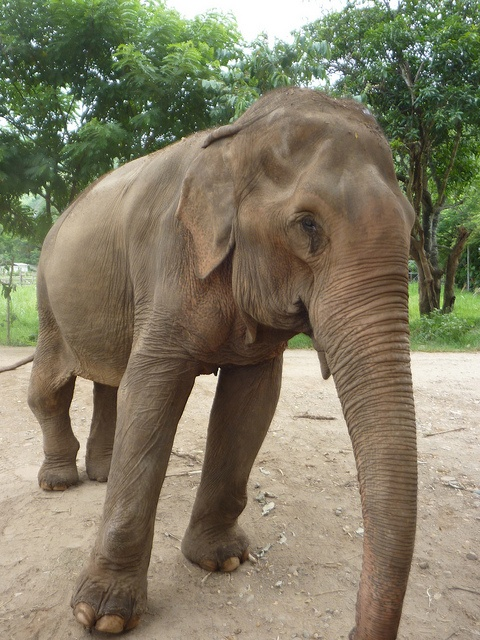elephant: (26, 88, 418, 640)
